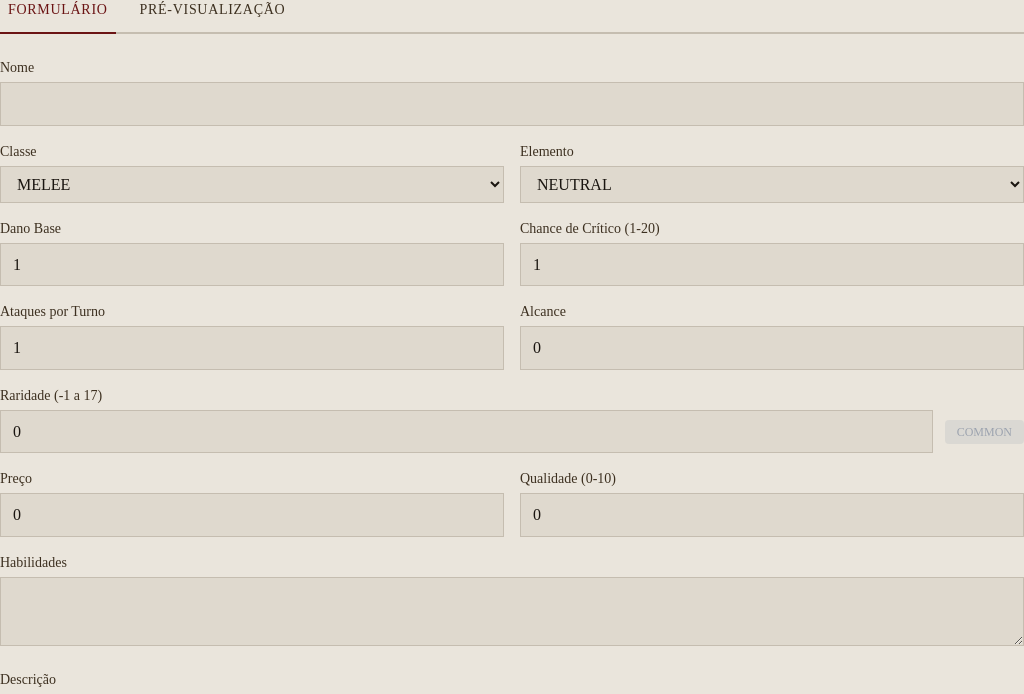
WeaponFormWithPreview › uses placeholder values in the preview when there is no previewBase (creation flow)
The width and height of the screenshot is (1024, 694).
Type "Nova Arma" into the field labelled "Nome" at (512, 104), box [0,82,1023,126]
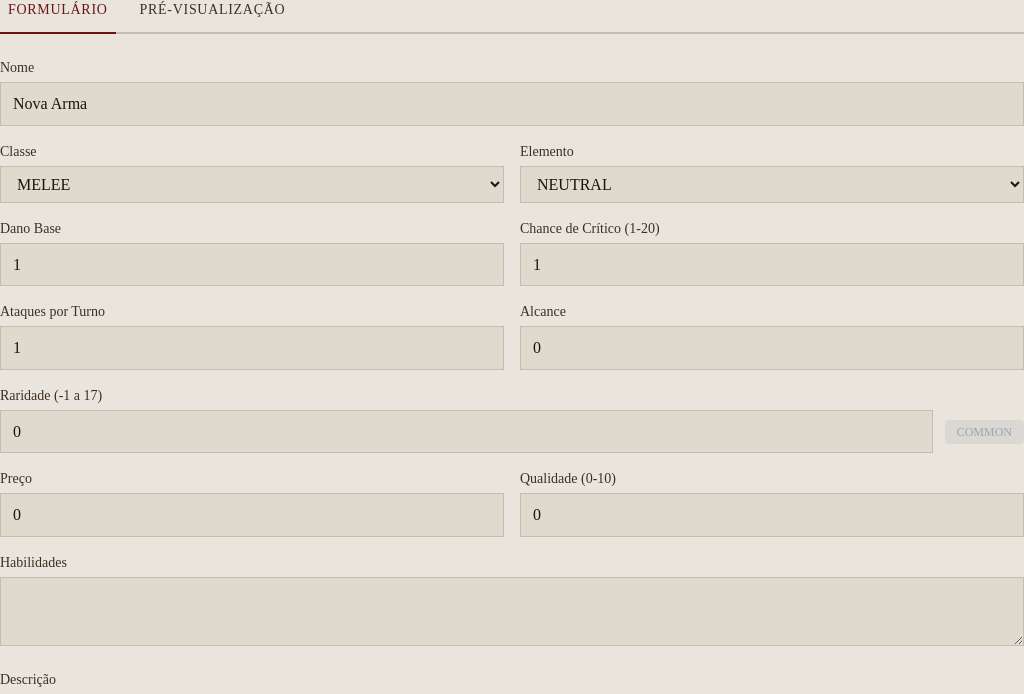
Click the button "Pré-visualização" at (212, 17), box [132,0,293,34]
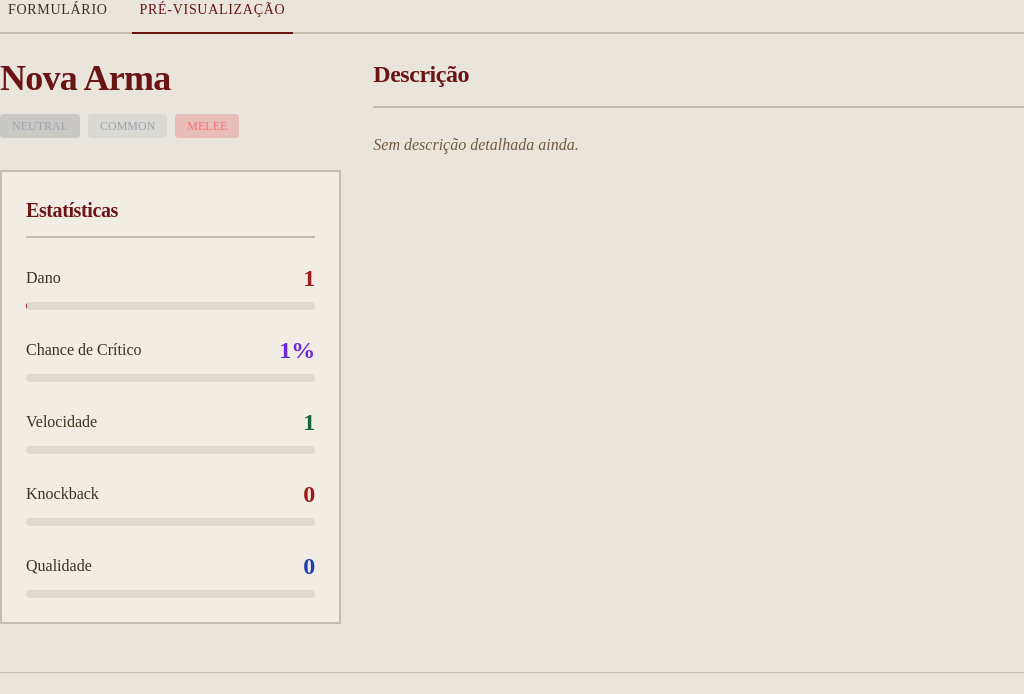
Now the heading "Nova Arma" is shown, box [0,58,170,98]
